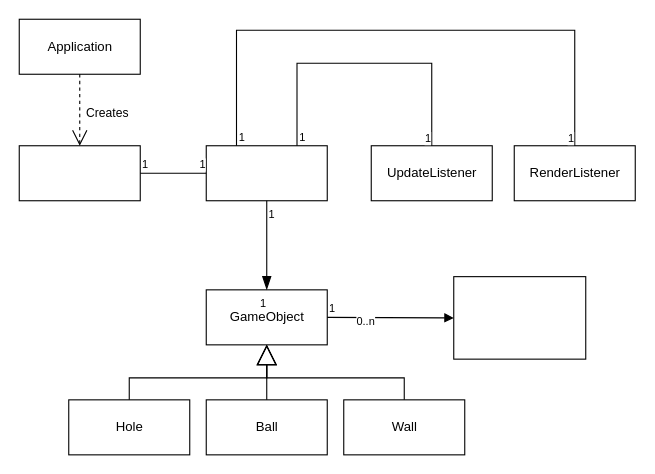
Some shapes in this 655 by 474 pixel diagram are drawn without their labels. Each missing label, with the centre of its shape:
<<enumeration>> Type Ball: the point at 519,317
GameEngine: the point at 266,173
GameWindow: the point at 79,173
